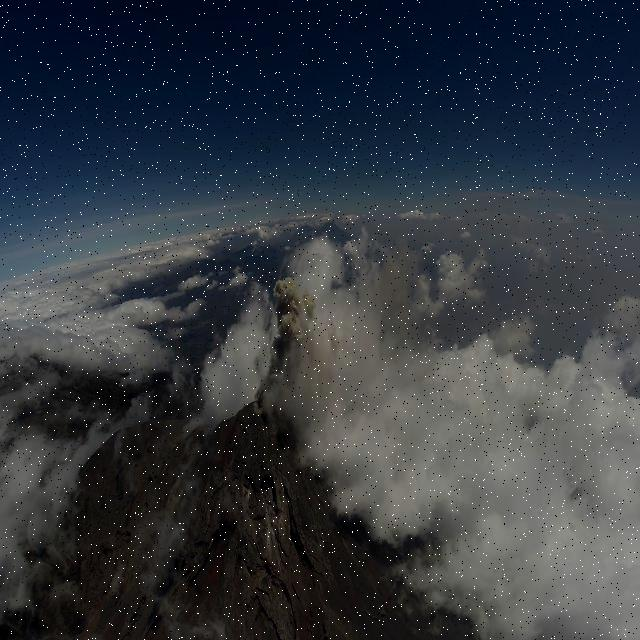Plume: (255, 262, 318, 408)
Summit: (205, 396, 294, 548)
